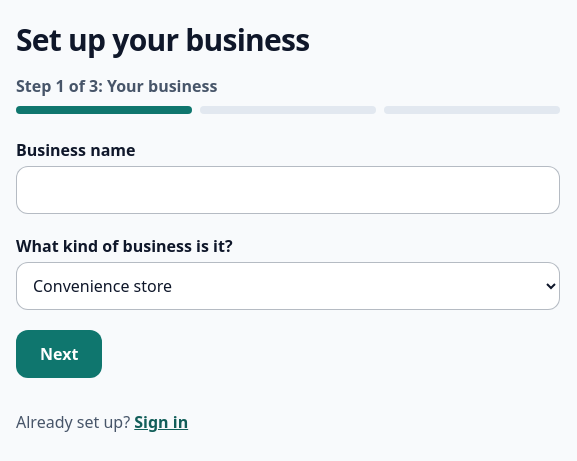
Test: OnboardingPage › holds each step until it is valid
Click the button "Next" at (59, 354), box [16,330,102,378]
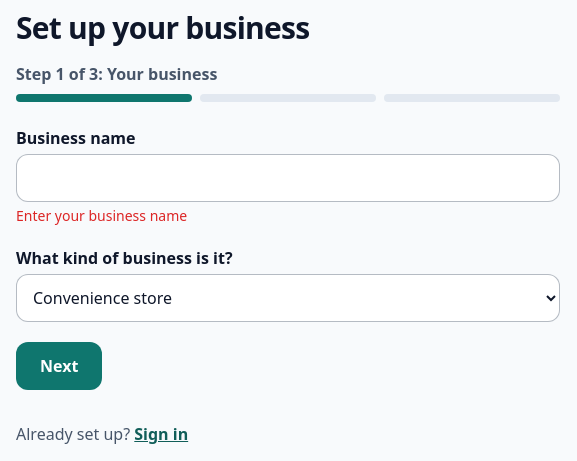
Expected: the text "Step 1 of 3: Your business" is shown, [16,63,217,85]
Expected: the text "Enter your business name" is shown, [16,206,187,225]
Type "Kape" into the field labelled "Business name" at (288, 178), box [16,154,560,202]
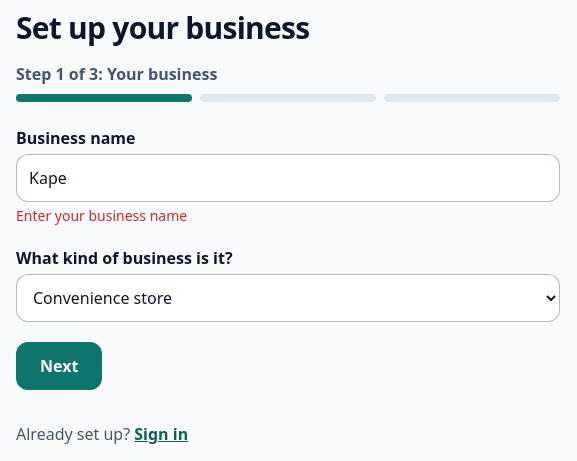
Click the button "Next" at (59, 366), box [16,342,102,390]
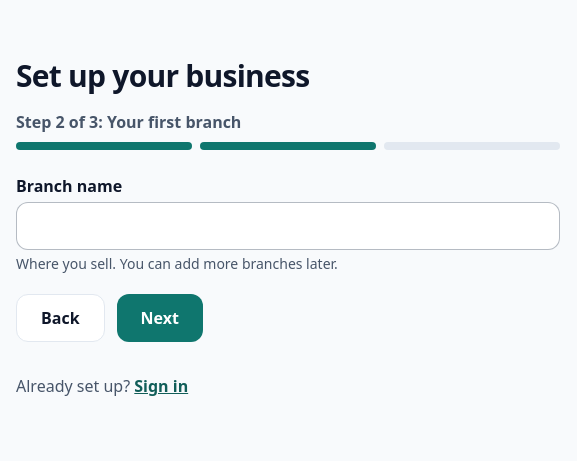
Expected: the text "Step 2 of 3: Your first branch" is shown, [16,111,241,133]
Click the button "Next" at (160, 318), box [117,294,203,342]
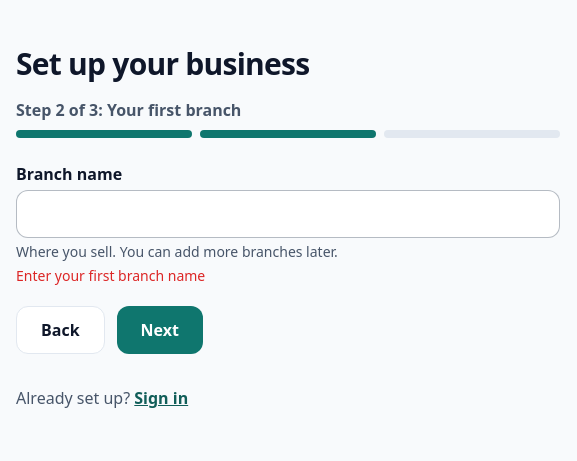
Expected: the text "Enter your first branch name" is shown, [16,266,205,285]
